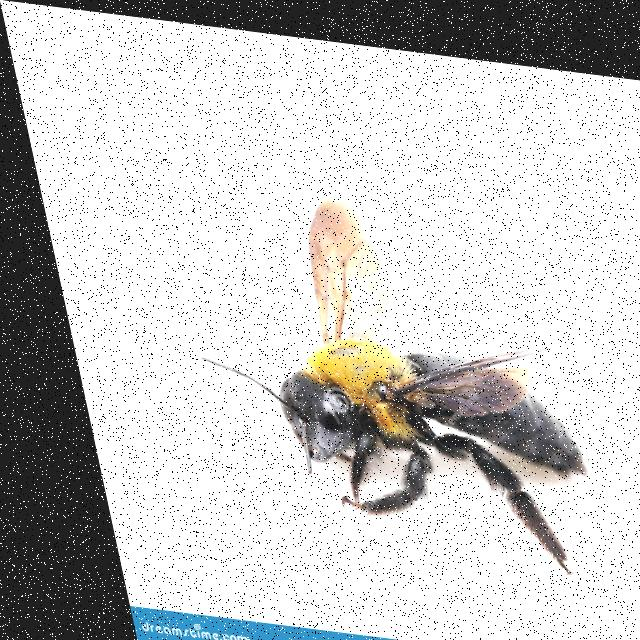Meliponula: (146, 162, 621, 587)
